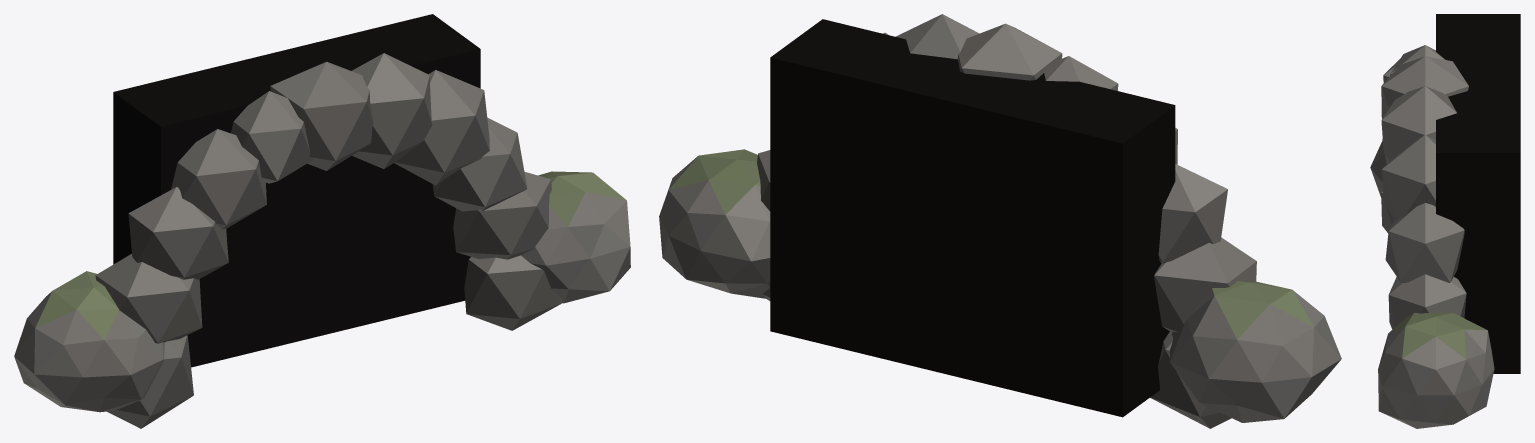
The model's file is cave_mouth.glb.
The picture shows the model from 3 angles, left to right: view 1: azimuth 30°, elevation 25°; view 2: azimuth 150°, elevation 25°; view 3: azimuth 270°, elevation 25°; orthographic projection. The views are drawn at different scales.
Visible parts, largest first — view 1: cave_mouth; view 2: cave_mouth; view 3: cave_mouth.
Boxes of the visible parts, left/top/right/bottom form: cave_mouth: left=14, top=14, right=630, bottom=428; cave_mouth: left=659, top=14, right=1341, bottom=428; cave_mouth: left=1370, top=14, right=1520, bottom=428.
Size of the model in its own units: 11.57 by 5.97 by 2.84.
